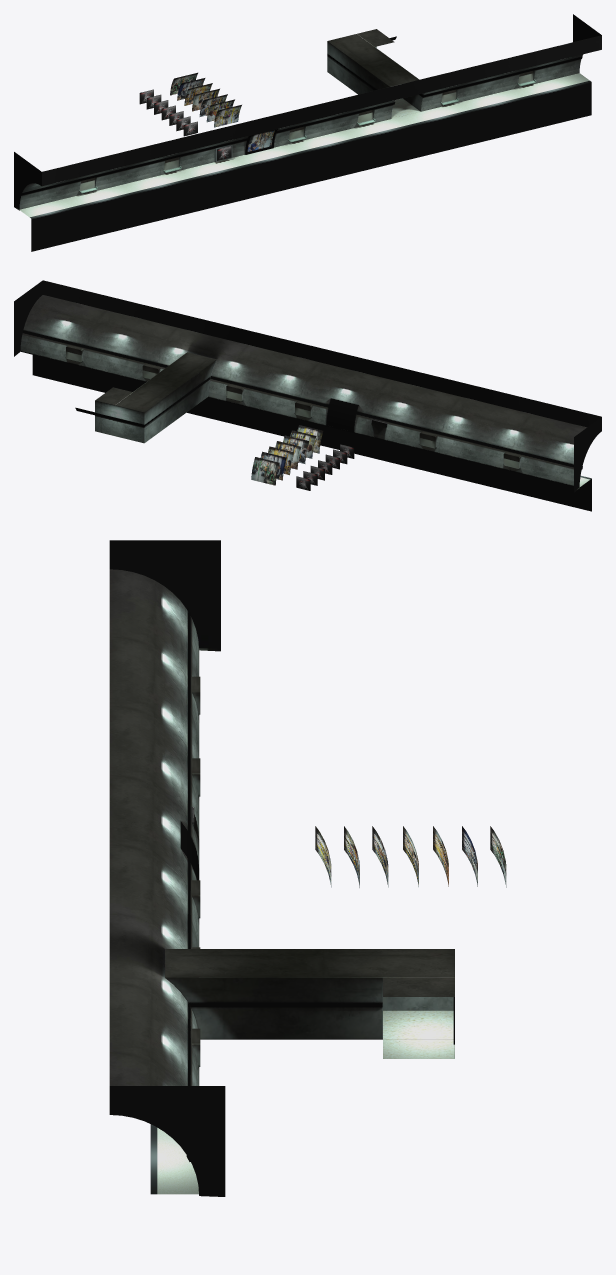
File: anden.glb
The picture shows the model from 3 angles, top to bottom: view 1: azimuth 30°, elevation 25°; view 2: azimuth 150°, elevation 25°; view 3: azimuth 270°, elevation 25°; orthographic projection. The views are drawn at different scales.
Parts seen in each view (by area): view 1: anden, pared, pasillo, soportes, cartel.cartel.002, cartel.cartel.001, banco; view 2: pared, anden, pasillo, cartel.cartel.008; view 3: pared, pasillo, anden.
Boxes of the visible parts, x1,y1,x2,y2 form: anden: (19, 73, 591, 251); pared: (14, 14, 601, 210); pasillo: (327, 29, 424, 118); soportes: (21, 36, 582, 195); cartel.cartel.002: (214, 105, 241, 127); cartel.cartel.001: (247, 130, 274, 151); banco: (79, 79, 536, 193); pared: (14, 280, 601, 492); anden: (32, 355, 591, 511); pasillo: (95, 352, 216, 443); cartel.cartel.008: (251, 457, 279, 485); pared: (109, 540, 225, 1196); pasillo: (165, 949, 454, 1058); anden: (150, 649, 199, 1194).
Size of the model in its own units: 400 by 59.7 by 123.
22 materials, 21 textured.
